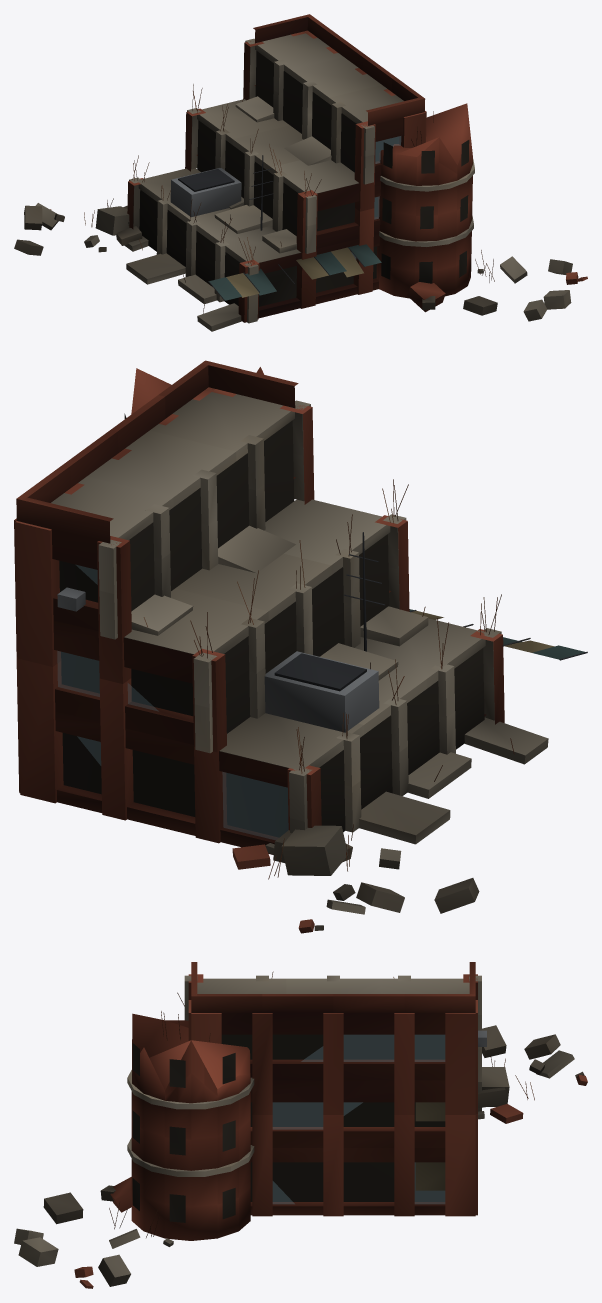
Rendered from ruin_lowrise_c.glb.
3 renders of one model, top to bottom at view 1: azimuth 30°, elevation 25°; view 2: azimuth 150°, elevation 25°; view 3: azimuth 270°, elevation 25°, orthographic. The views are drawn at different scales.
Visible parts, largest first — view 1: concrete, brick, concrete_dark, canvas, metal_bare, metal_dark, rebar; view 2: concrete, brick, concrete_dark, glass, metal_bare, metal_dark, rebar, canvas; view 3: brick, concrete_dark, concrete, glass, canvas.
Boxes of the visible parts, left/top/right/bottom form: concrete: left=35, top=33, right=572, bottom=331; brick: left=50, top=14, right=587, bottom=322; concrete_dark: left=14, top=51, right=497, bottom=315; canvas: left=209, top=244, right=381, bottom=300; metal_bare: left=170, top=168, right=241, bottom=217; metal_dark: left=178, top=155, right=364, bottom=300; rebar: left=84, top=84, right=494, bottom=313; concrete: left=51, top=392, right=548, bottom=914; brick: left=14, top=360, right=504, bottom=933; concrete_dark: left=59, top=413, right=484, bottom=930; glass: left=57, top=565, right=288, bottom=839; metal_bare: left=57, top=587, right=379, bottom=732; metal_dark: left=274, top=532, right=587, bottom=691; rebar: left=143, top=479, right=514, bottom=879; canvas: left=409, top=609, right=584, bottom=659; brick: left=74, top=962, right=587, bottom=1288; concrete_dark: left=43, top=1025, right=584, bottom=1224; concrete: left=14, top=975, right=574, bottom=1286; glass: left=273, top=1035, right=444, bottom=1203; canvas: left=415, top=1102, right=445, bottom=1190.
Size of what is drawn, in the model's own units: 28.58 by 12.32 by 28.25.
